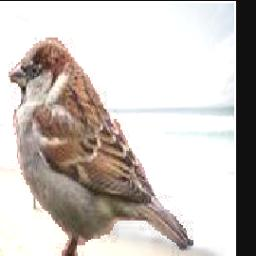Sparrow: (9, 39, 194, 256)
